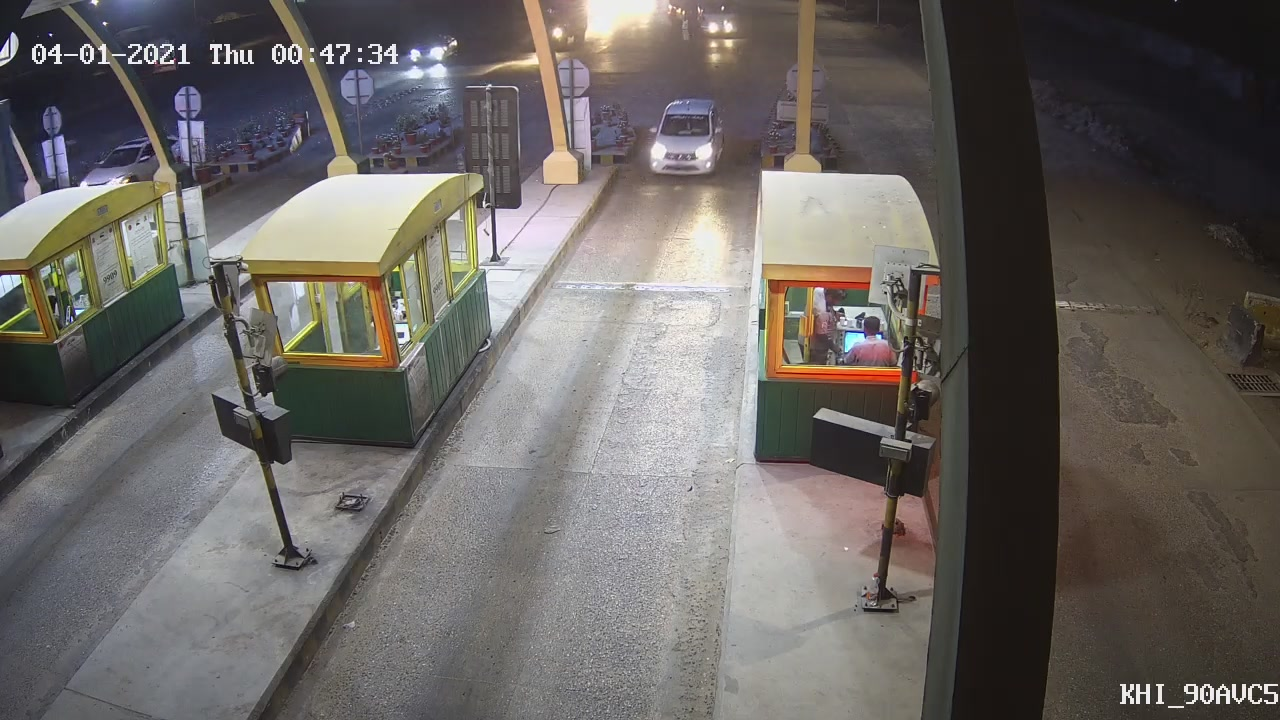F1: (637, 92, 730, 187)
